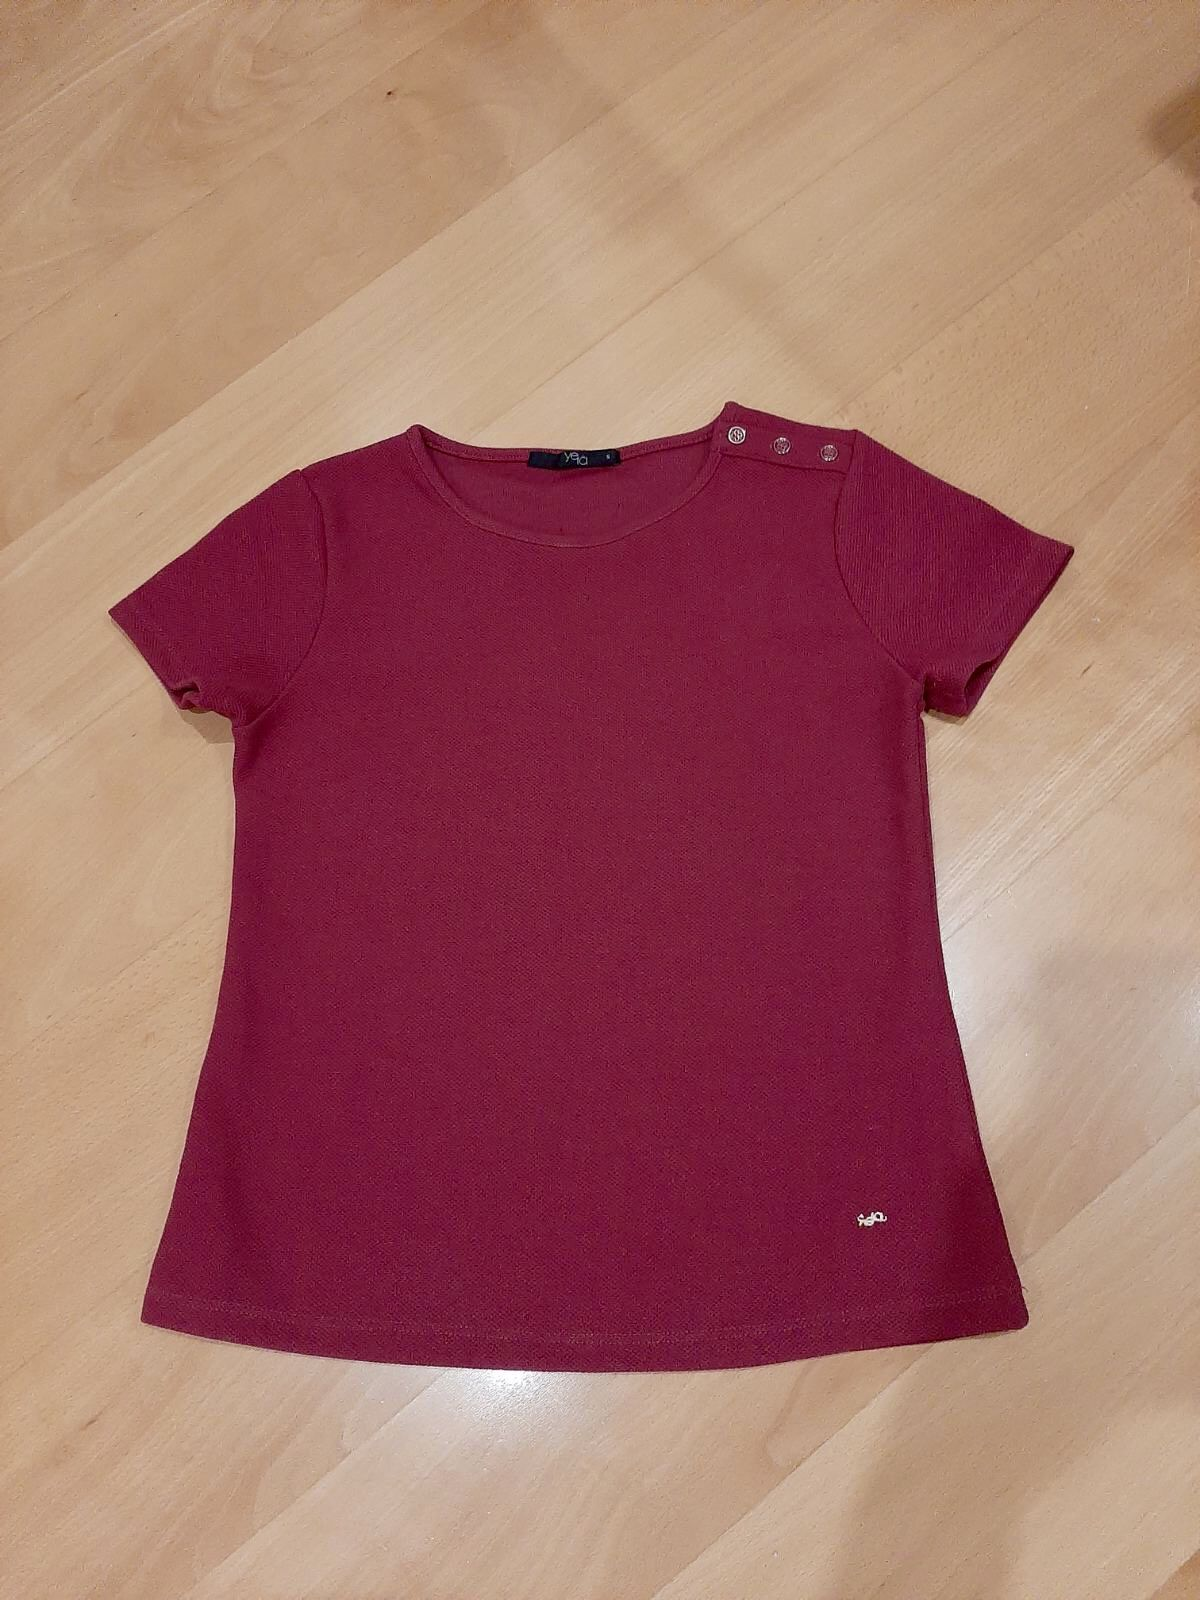clothes: (95, 401, 1071, 1364)
